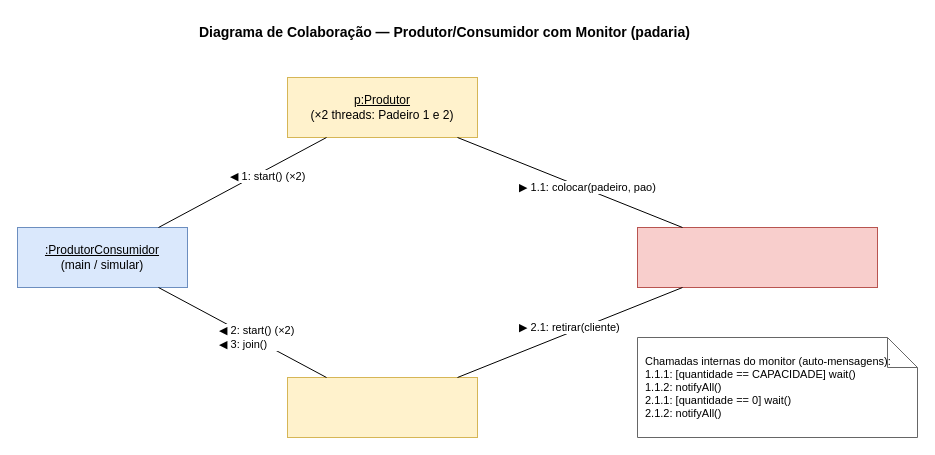
This 935x455 diagram has some shape labels left out. Each missing label, with the centre of its shape:
"bal:BalcaoMonitor «Balcao» (synchronized, capacidade 3)" goes at point (757, 257).
"c:Consumidor (×2 threads: Cliente 1 e 2)" goes at point (382, 407).
